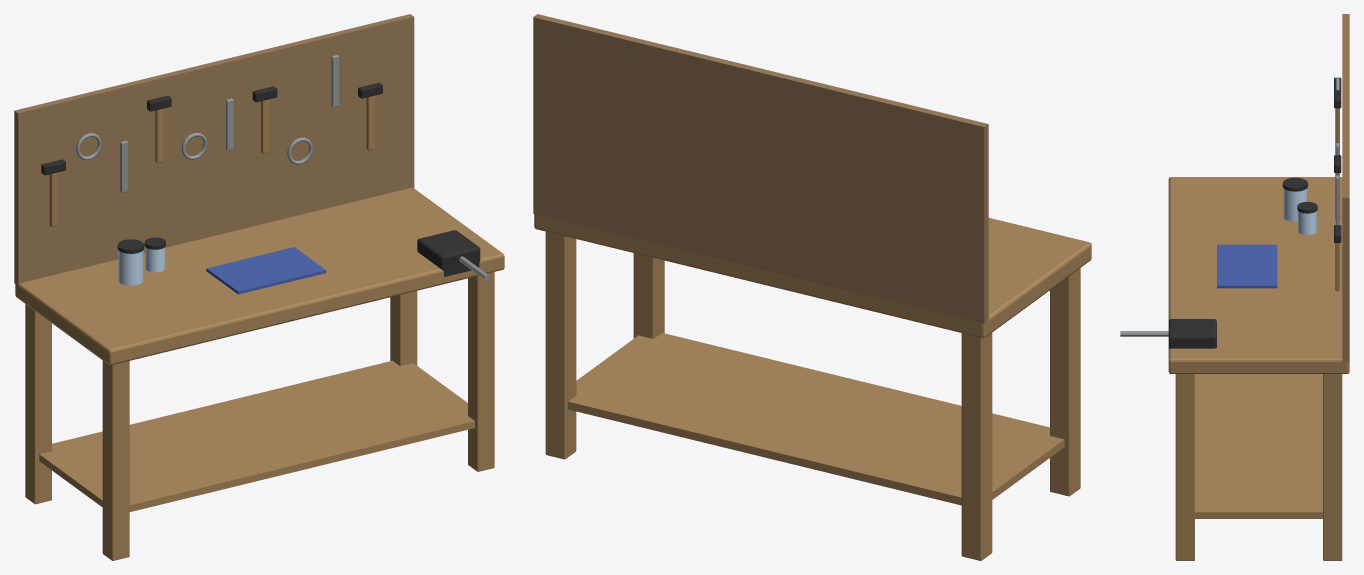
The model's file is workbench.glb.
3 views of the same model, side by side, from view 1: azimuth 30°, elevation 25°; view 2: azimuth 150°, elevation 25°; view 3: azimuth 270°, elevation 25° (orthographic). The views are drawn at different scales.
Visible parts, largest first — view 1: workbench; view 2: workbench; view 3: workbench.
Boxes of the visible parts, x1,y1,x2,y2 form: workbench: (14,14,504,560); workbench: (533,14,1091,560); workbench: (1120,14,1349,560).
Size of the model in its own units: 1.8 by 1.67 by 0.95.
